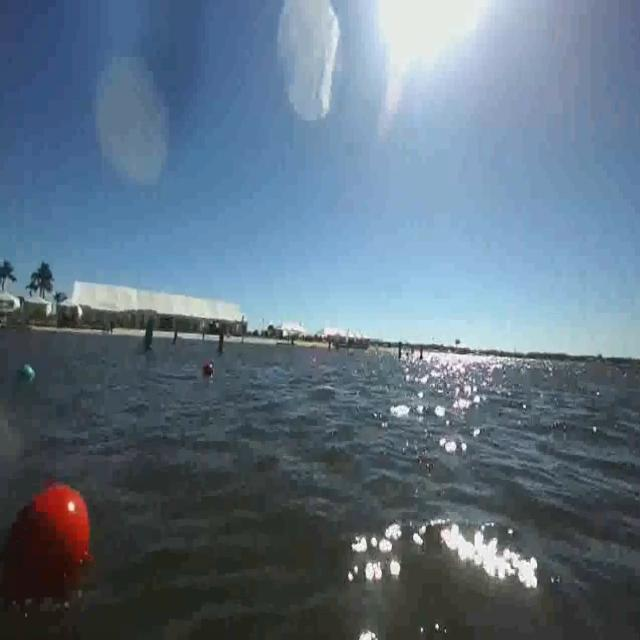black-buoy: (203, 359, 213, 381)
green-buoy: (22, 364, 35, 379)
green-column-buoy: (142, 317, 157, 356), (216, 326, 228, 356)
red-buoy: (2, 472, 102, 584)
